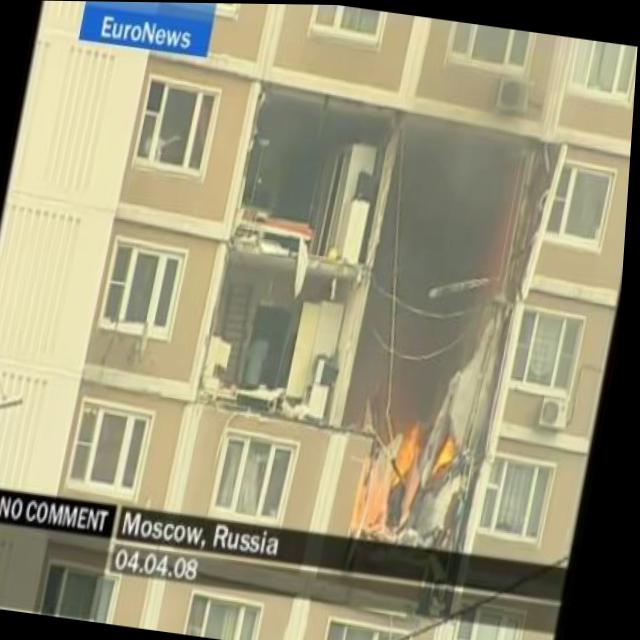fire: (392, 413, 435, 489), (440, 426, 468, 477)
